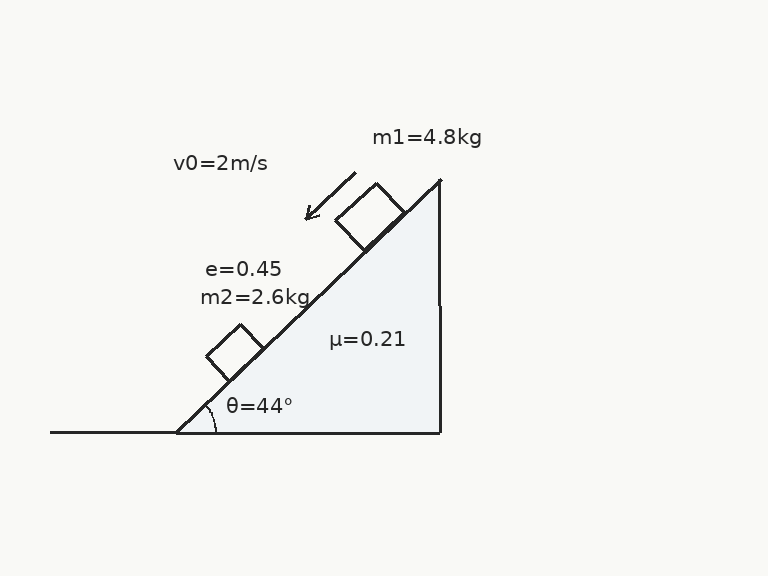block: (334, 180, 406, 252), (204, 321, 265, 382)
ramp: (174, 176, 441, 434)
